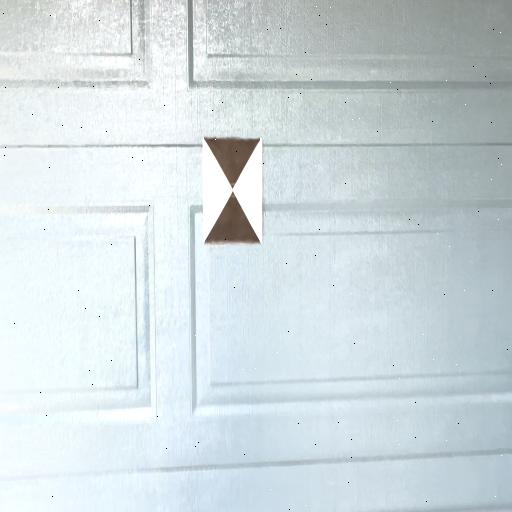target: (203, 139, 263, 244)
